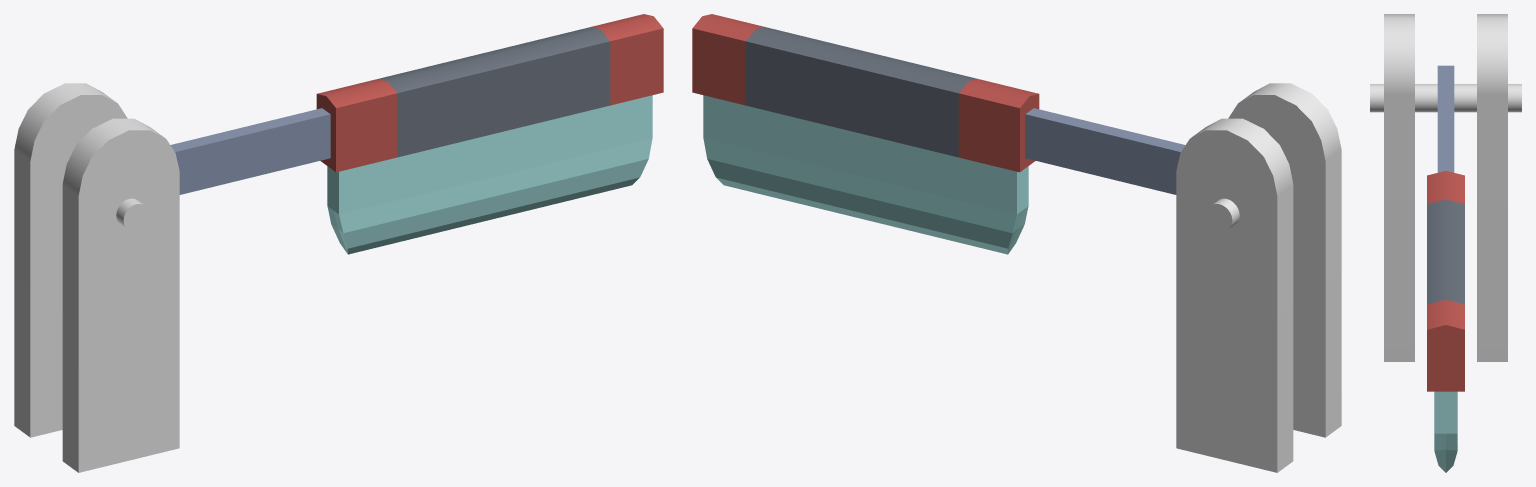
File: Obstacle5.fbx
3 renders of one model, left to right at view 1: azimuth 30°, elevation 25°; view 2: azimuth 150°, elevation 25°; view 3: azimuth 270°, elevation 25°, orthographic. The views are drawn at different scales.
Parts seen in each view (by area): view 1: Obstacle5, pCube2, pCube1, pCylinder3; view 2: Obstacle5, pCube1, pCube2, pCylinder3; view 3: Obstacle5, pCube2, pCube1, pCylinder3.
Boxes of the visible parts, x1=… form: Obstacle5: x1=170, y1=14, x2=663, y2=254; pCube2: x1=62, y1=118, x2=179, y2=472; pCube1: x1=14, y1=83, x2=127, y2=437; pCylinder3: x1=116, y1=198, x2=149, y2=231; Obstacle5: x1=692, y1=14, x2=1185, y2=254; pCube1: x1=1176, y1=118, x2=1293, y2=472; pCube2: x1=1228, y1=83, x2=1341, y2=437; pCylinder3: x1=1206, y1=198, x2=1239, y2=231; Obstacle5: x1=1427, y1=65, x2=1464, y2=472; pCube2: x1=1384, y1=14, x2=1414, y2=361; pCube1: x1=1477, y1=14, x2=1507, y2=361; pCylinder3: x1=1370, y1=84, x2=1521, y2=112.
Bounding box in the file's own units: 56.48 × 29.36 × 12.68.
